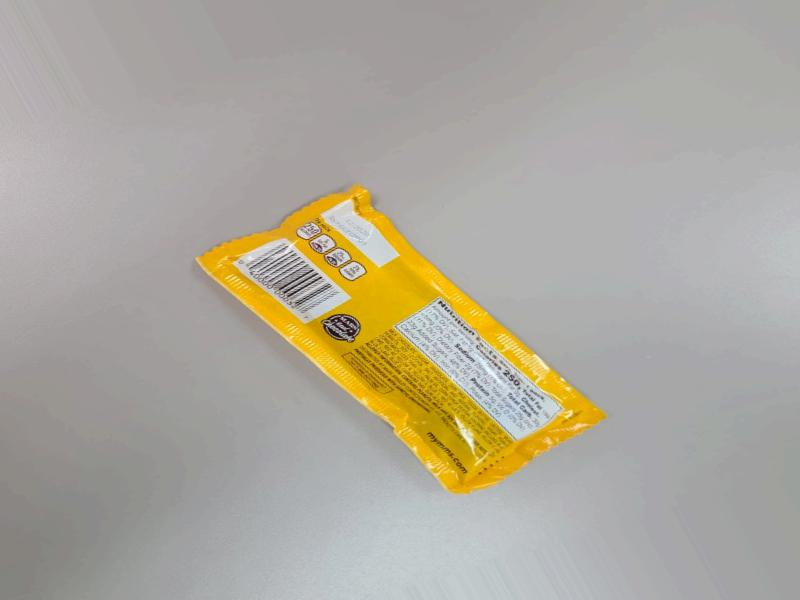m&m: (199, 190, 586, 487)
